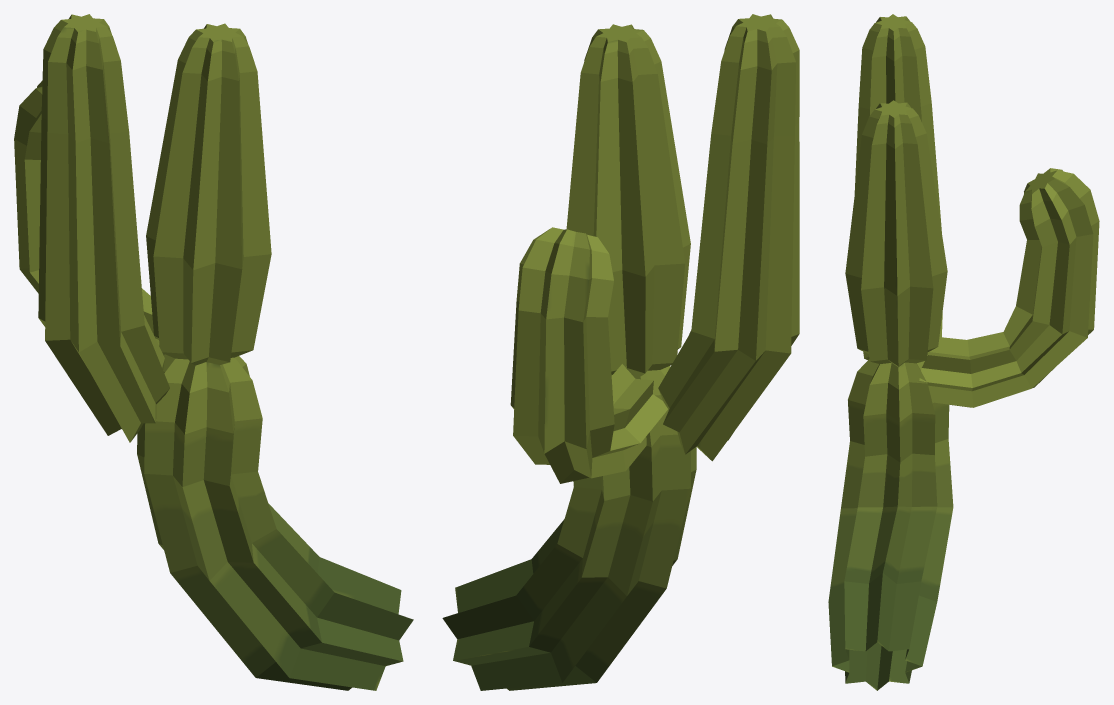
File: wallcactus_02.fbx
3 views of the same model, side by side, from view 1: azimuth 30°, elevation 25°; view 2: azimuth 150°, elevation 25°; view 3: azimuth 270°, elevation 25° (orthographic). The views are drawn at different scales.
Visible parts, largest first — view 1: Cylinder.003; view 2: Cylinder.003; view 3: Cylinder.003.
Boxes of the visible parts, bbox=[...] form: Cylinder.003: bbox=[14, 14, 413, 690]; Cylinder.003: bbox=[442, 14, 799, 690]; Cylinder.003: bbox=[828, 14, 1099, 690].
Size of the model in its own units: 322 by 648 by 279.
